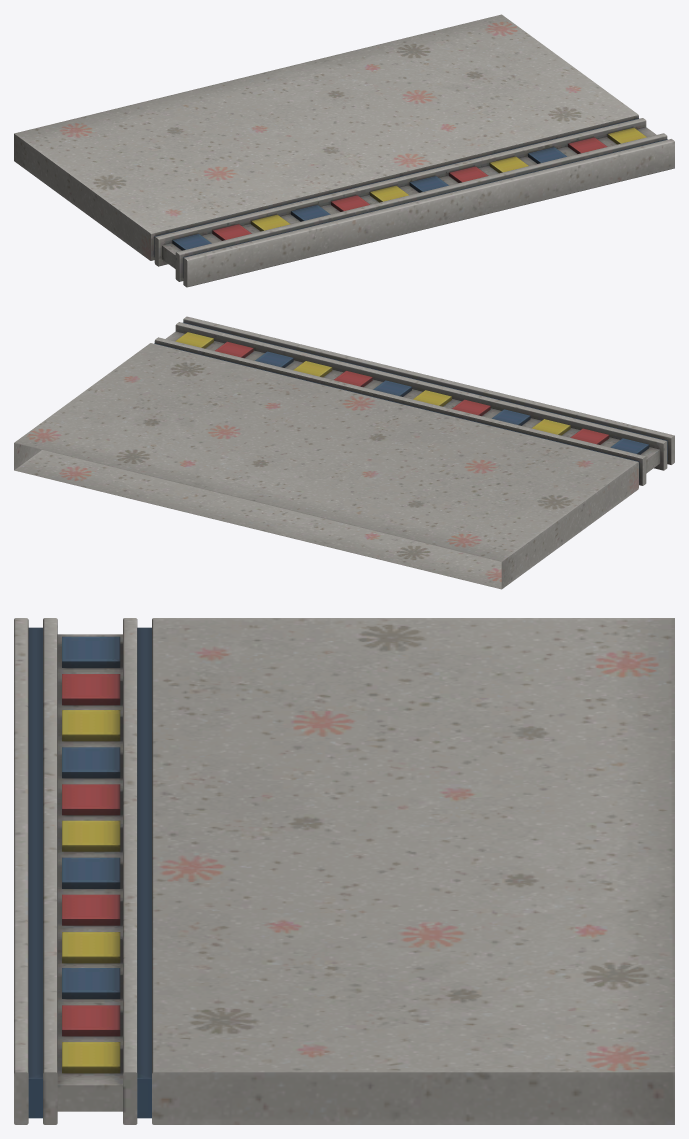
File: nt_kitchen_wall_LOD0.obj
3 views of the same model, one above another, from view 1: azimuth 30°, elevation 25°; view 2: azimuth 150°, elevation 25°; view 3: azimuth 270°, elevation 25° (orthographic). The views are drawn at different scales.
Visible parts, largest first — view 1: mtl_nt_kitchen_wall; view 2: mtl_nt_kitchen_wall; view 3: mtl_nt_kitchen_wall.
Boxes of the visible parts, <box> form: mtl_nt_kitchen_wall: <box>14,14,674,287</box>; mtl_nt_kitchen_wall: <box>14,316,674,589</box>; mtl_nt_kitchen_wall: <box>14,618,674,1124</box>.
Size of the model in its own units: 188 by 10.16 by 116.
